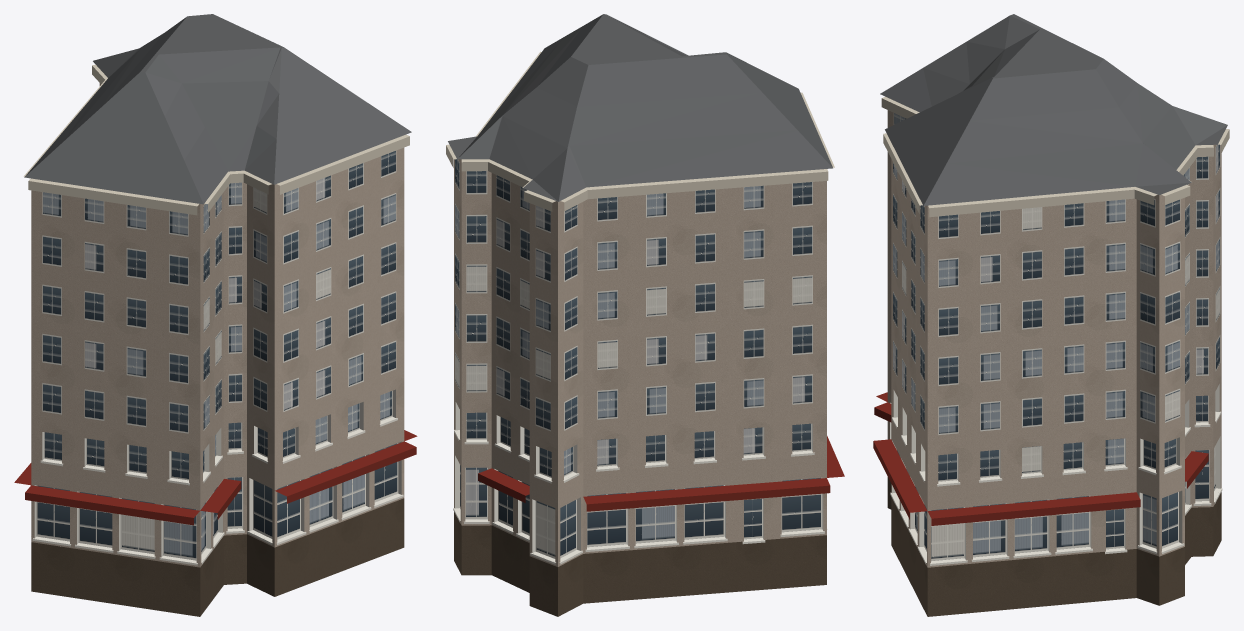
The model's file is z4_berta1.glb.
3 renders of one model, left to right at view 1: azimuth 30°, elevation 25°; view 2: azimuth 150°, elevation 25°; view 3: azimuth 270°, elevation 25°, orthographic.
Parts seen in each view (by area): view 1: z4_berta1; view 2: z4_berta1; view 3: z4_berta1.
Boxes of the visible parts, box(x1,y1,x2,y2) form: z4_berta1: box(14, 14, 417, 616); z4_berta1: box(446, 14, 844, 616); z4_berta1: box(873, 14, 1229, 616).
Size of the model in its own units: 22.4 by 30.23 by 19.68.
Materials: 3 (3 with a texture image).
